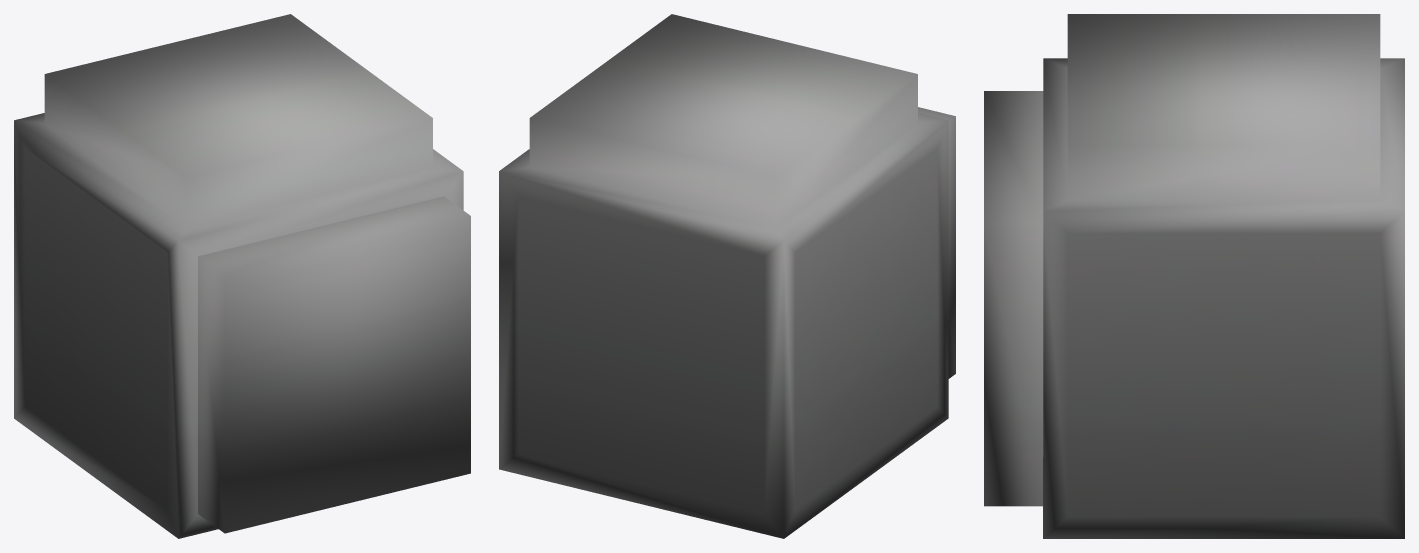
File: TubulationCurveEng.fbx
3 views of the same model, side by side, from view 1: azimuth 30°, elevation 25°; view 2: azimuth 150°, elevation 25°; view 3: azimuth 270°, elevation 25° (orthographic). The views are drawn at different scales.
Parts seen in each view (by area): view 1: TubulationCurveEng; view 2: TubulationCurveEng; view 3: TubulationCurveEng.
Boxes of the visible parts, box(x1,y1,x2,y2) form: TubulationCurveEng: box(14, 14, 470, 538); TubulationCurveEng: box(499, 14, 955, 538); TubulationCurveEng: box(984, 14, 1404, 538).
Bounding box in the file's own units: 60 × 70.01 × 69.8.
1 material, 1 textured.
